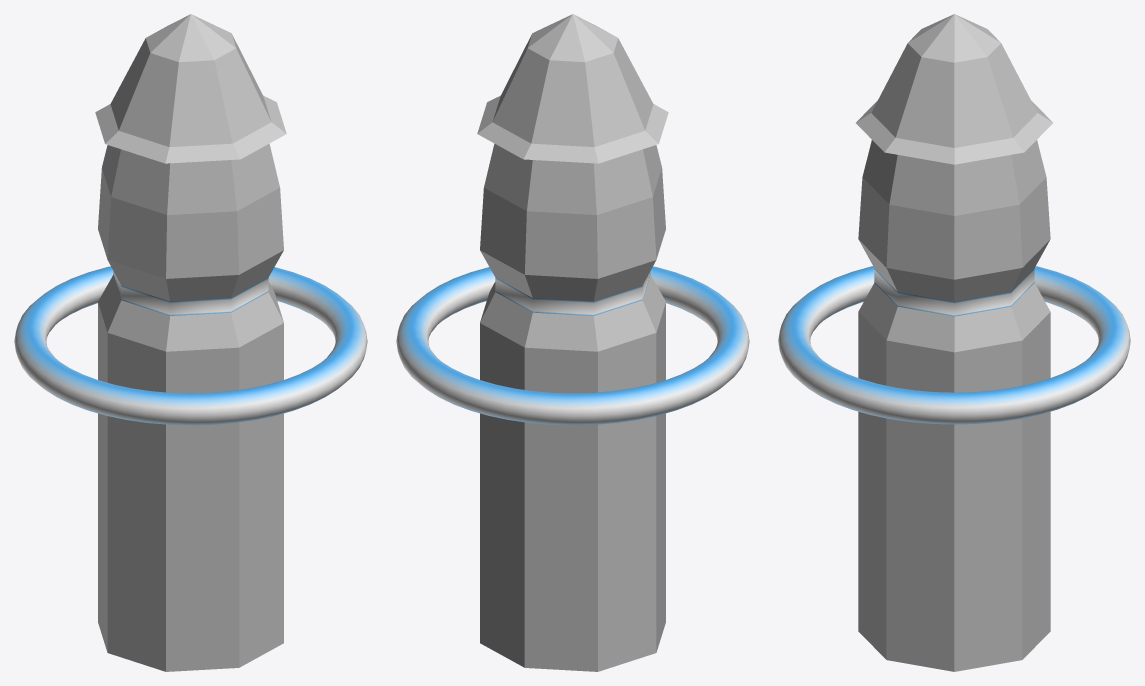
The model's file is Ice Turret.fbx.
The picture shows the model from 3 angles, left to right: view 1: azimuth 30°, elevation 25°; view 2: azimuth 150°, elevation 25°; view 3: azimuth 270°, elevation 25°; orthographic projection.
Visible parts, largest first — view 1: Ice Turret Base, Ice Wave, Ice Turret Top; view 2: Ice Turret Base, Ice Wave, Ice Turret Top; view 3: Ice Turret Base, Ice Wave, Ice Turret Top.
Boxes of the visible parts, bbox=[...] form: Ice Turret Base: bbox=[98, 143, 283, 671]; Ice Wave: bbox=[14, 266, 367, 425]; Ice Turret Top: bbox=[95, 14, 286, 163]; Ice Turret Base: bbox=[480, 143, 665, 671]; Ice Wave: bbox=[396, 266, 749, 425]; Ice Turret Top: bbox=[477, 14, 668, 163]; Ice Turret Base: bbox=[858, 140, 1050, 671]; Ice Wave: bbox=[778, 266, 1130, 424]; Ice Turret Top: bbox=[856, 14, 1052, 164].
Bounding box in the file's own units: 2.2 × 4.25 × 2.2.
